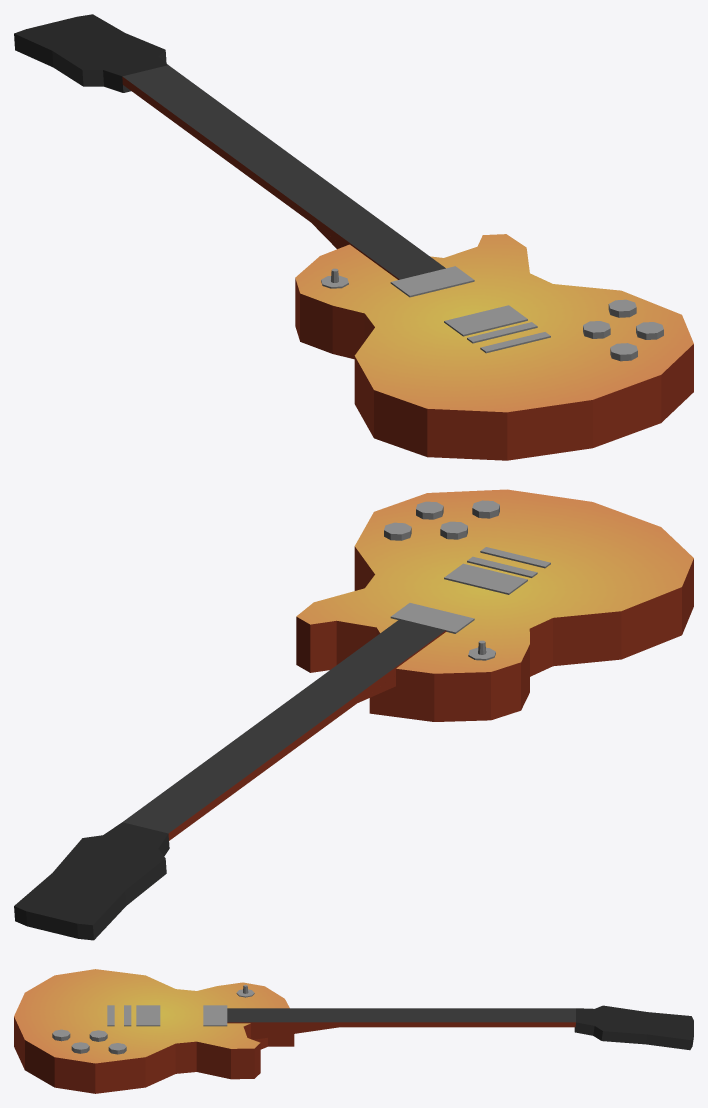
File: guitar.fbx
The picture shows the model from 3 angles, top to bottom: view 1: azimuth 30°, elevation 25°; view 2: azimuth 150°, elevation 25°; view 3: azimuth 270°, elevation 25°; orthographic projection. The views are drawn at different scales.
Parts seen in each view (by area): view 1: Circle.003; view 2: Circle.003; view 3: Circle.003.
Boxes of the visible parts, bbox=[...] form: Circle.003: bbox=[14, 14, 693, 460]; Circle.003: bbox=[14, 489, 693, 940]; Circle.003: bbox=[14, 969, 693, 1093].
Size of the model in its own units: 200 by 38 by 609.
